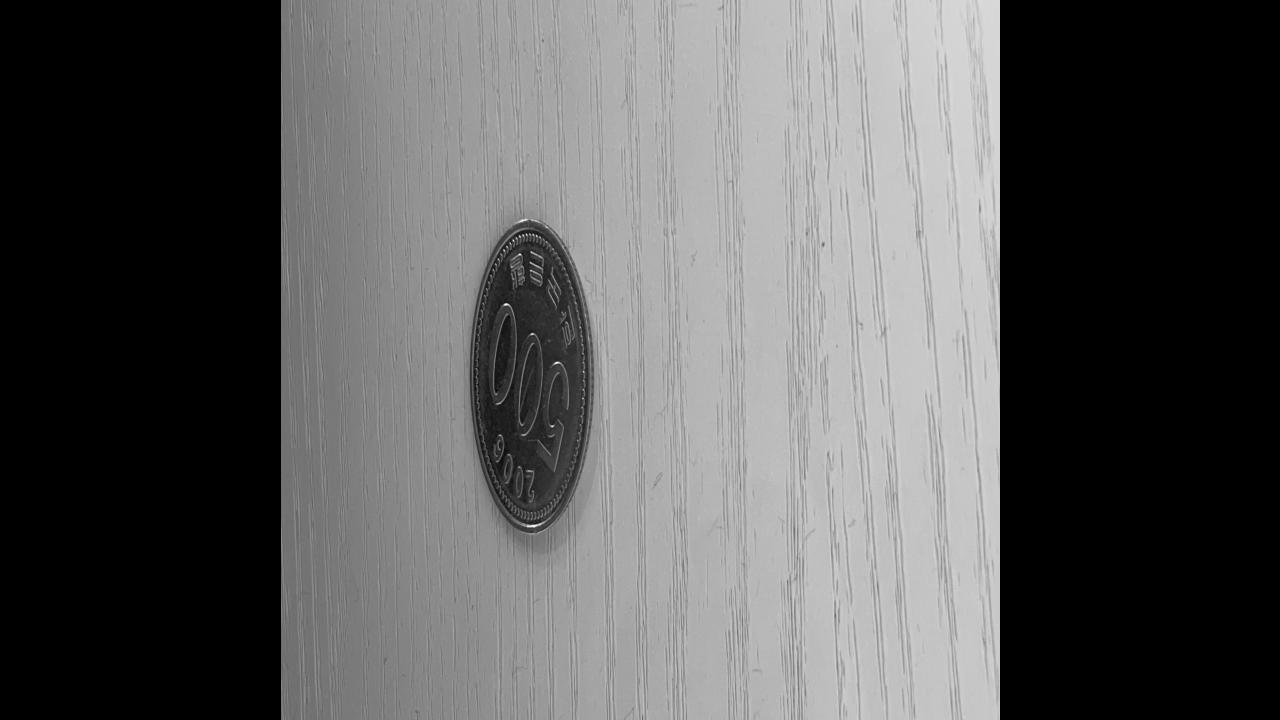coin: (470, 220, 592, 536)
